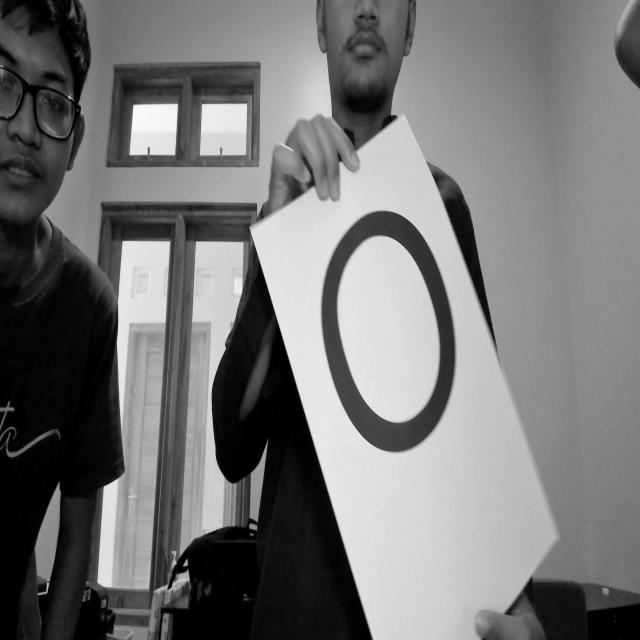o: (319, 198, 465, 470)
